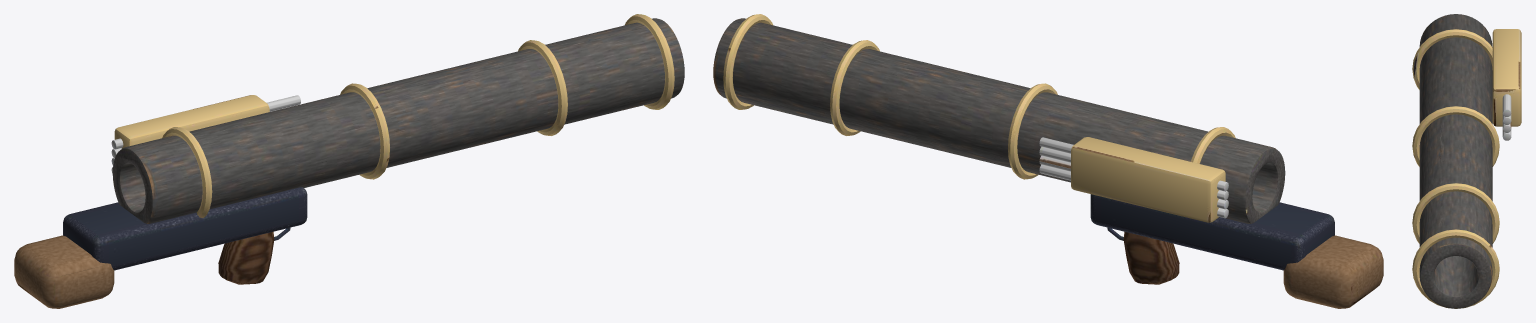
File: harpooncannon.glb
The picture shows the model from 3 angles, left to right: view 1: azimuth 30°, elevation 25°; view 2: azimuth 150°, elevation 25°; view 3: azimuth 270°, elevation 25°; orthographic projection. The views are drawn at different scales.
Parts seen in each view (by area): view 1: barrel, cradle, shoulder, feed, grip, hoop0.2, hoop0.6, hoop0.45, hoop-0.05; view 2: barrel, cradle, feed, shoulder, grip, hoop0.2, hoop0.6, hoop0.45, hoop-0.05; view 3: barrel, feed, hoop0.6, hoop0.2, hoop0.45, hoop-0.05, feed_bolt3.
Boxes of the visible parts, x1=… form: barrel: x1=112, y1=18, x2=684, y2=223; cradle: x1=63, y1=187, x2=307, y2=270; shoulder: x1=14, y1=235, x2=114, y2=308; feed: x1=114, y1=95, x2=269, y2=148; grip: x1=218, y1=231, x2=274, y2=284; hoop0.2: x1=340, y1=83, x2=389, y2=179; hoop0.6: x1=625, y1=14, x2=674, y2=109; hoop0.45: x1=518, y1=40, x2=567, y2=135; hoop-0.05: x1=162, y1=127, x2=212, y2=217; barrel: x1=713, y1=18, x2=1285, y2=223; cradle: x1=1090, y1=194, x2=1334, y2=270; feed: x1=1071, y1=137, x2=1225, y2=222; shoulder: x1=1283, y1=235, x2=1383, y2=308; grip: x1=1123, y1=231, x2=1179, y2=284; hoop0.2: x1=1008, y1=83, x2=1057, y2=179; hoop0.6: x1=723, y1=14, x2=772, y2=109; hoop0.45: x1=830, y1=40, x2=879, y2=135; hoop-0.05: x1=1190, y1=127, x2=1235, y2=163; barrel: x1=1419, y1=14, x2=1492, y2=308; feed: x1=1492, y1=29, x2=1521, y2=126; hoop0.6: x1=1412, y1=229, x2=1499, y2=308; hoop0.2: x1=1412, y1=106, x2=1499, y2=166; hoop0.45: x1=1412, y1=183, x2=1499, y2=243; hoop-0.05: x1=1412, y1=29, x2=1492, y2=89; feed_bolt3: x1=1502, y1=94, x2=1511, y2=116.
Size of the model in its own units: 0.895 by 0.2252 by 0.15.
Materials: 1 (1 with a texture image).
